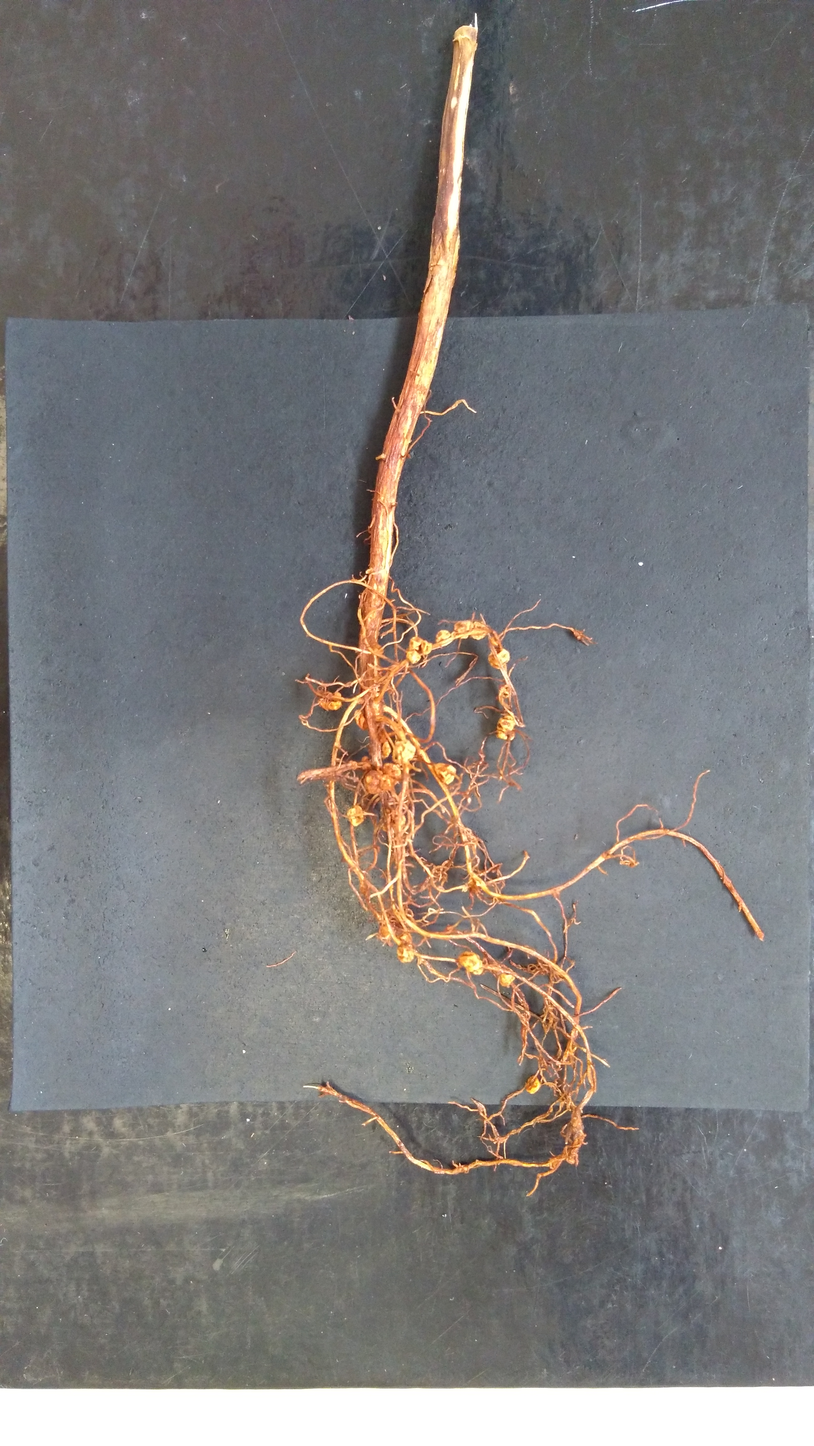nodule: (362, 769, 396, 795), (456, 950, 486, 976), (390, 739, 416, 765), (380, 810, 407, 834), (495, 715, 516, 741), (316, 691, 343, 711), (487, 648, 510, 671), (434, 762, 457, 785), (470, 621, 493, 641), (453, 619, 474, 640), (346, 804, 365, 827), (353, 707, 370, 732), (395, 944, 416, 964), (524, 1074, 541, 1094), (498, 971, 516, 988), (382, 762, 401, 778), (408, 635, 424, 651), (434, 628, 451, 643), (397, 930, 414, 945), (406, 649, 421, 665), (380, 740, 392, 760), (420, 639, 432, 655), (381, 922, 393, 937), (488, 636, 498, 647), (361, 763, 371, 771), (360, 755, 369, 761)
